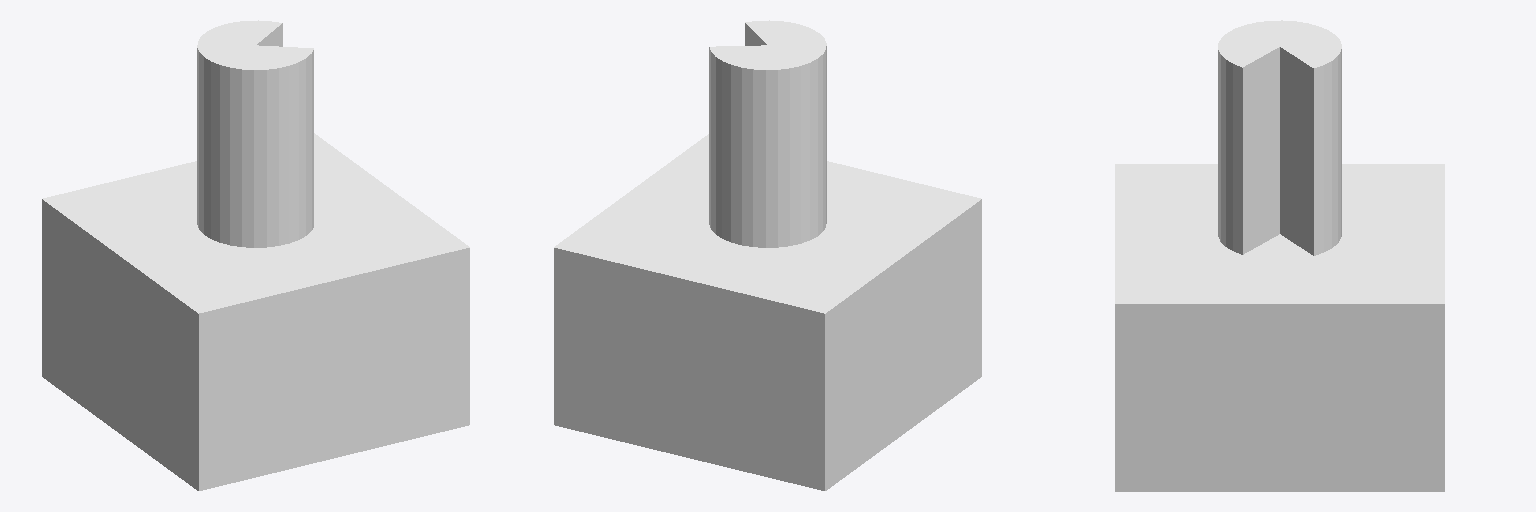
robot.urdf — pacman:
<robot name="pacman">
	<link name="_name">
		<visual>
			<origin rpy="0 0 0" xyz="5.137647676816966e-05 -1.7941047746134226e-06 -0.006541129888388051" />
			<geometry>
				<mesh filename="pacman.obj" scale=".001 .001 .001" />
			</geometry>
			<material name="texture">
				<color rgba="1.0 1.0 1.0 1.0" />
			</material>
		</visual>
		<collision>
			<geometry>
				<mesh filename="pacman_vhacd.obj" scale=".001 .001 .001" />
			</geometry>
		<origin rpy="0 0 0" xyz="5.137647676816966e-05 -1.7941047746134226e-06 -0.006541129888388051" /></collision>
		<inertial>
			<mass value="1.0" />
			<inertia ixx="1.0" ixy="0.0" ixz="0.0" iyy="1.0" iyz="0.0" izz="1.0" />
		</inertial>
	</link>
</robot>

--- Render facts (derived) ---
Views: 3 orthographic renders of the robot side by side, from view 1: azimuth 30°, elevation 25°; view 2: azimuth 150°, elevation 25°; view 3: azimuth 270°, elevation 25°.
Model pacman with 1 links and 0 joints (none), rooted at _name, posed every joint at zero.
Visible links, largest first — view 1: _name; view 2: _name; view 3: _name.
Boxes of the visible links, bbox=[...] form: _name: bbox=[42, 20, 469, 490]; _name: bbox=[554, 20, 981, 490]; _name: bbox=[1115, 20, 1444, 491].
Size in the robot's own frame: 0.016 by 0.016 by 0.02 metres.
Meshes: 1 distinct files referenced, 1 mesh visuals loaded (1 OBJ).